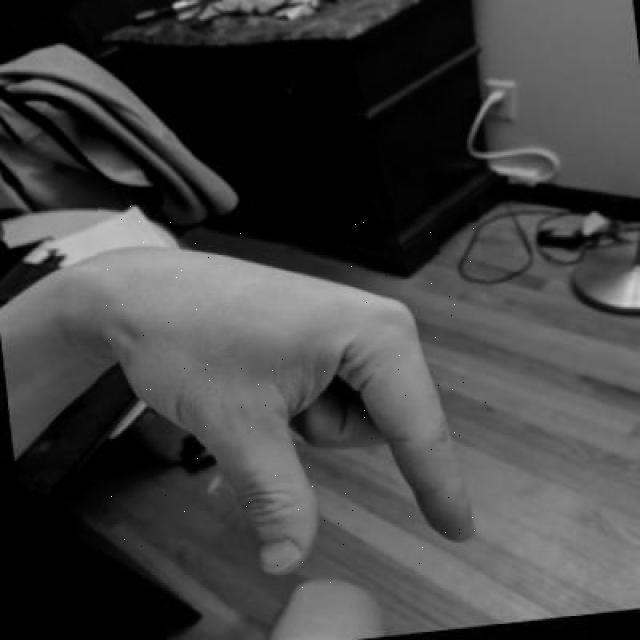Q: (98, 206, 486, 598)
